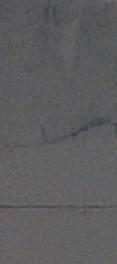fissura: (30, 98, 117, 157)
